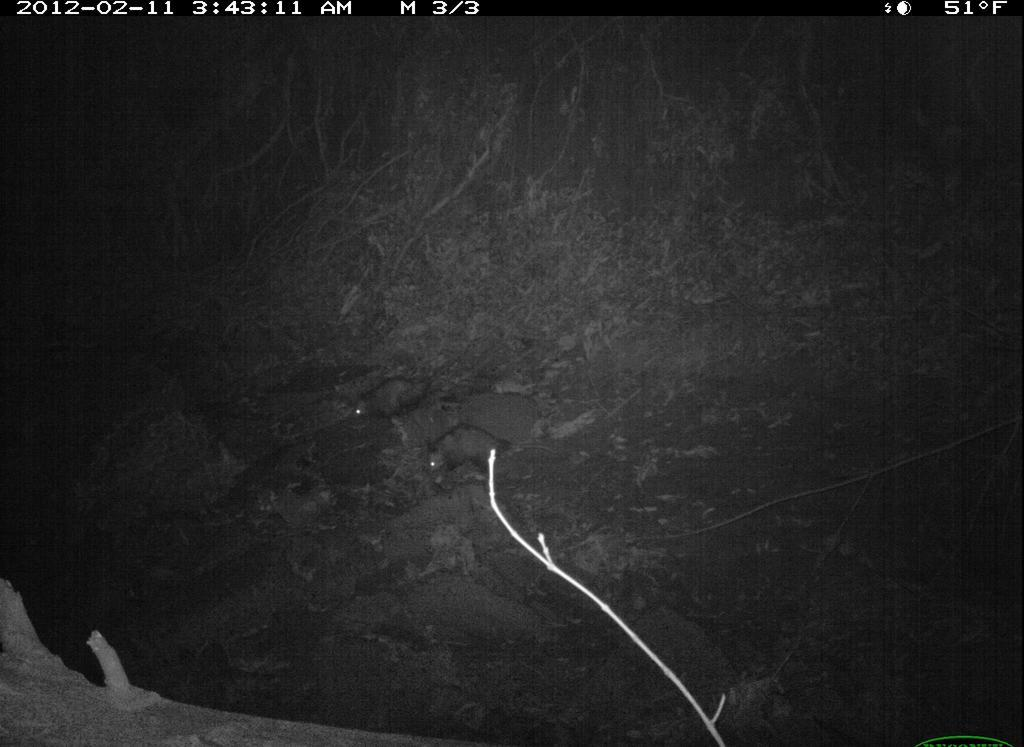opossum: (417, 425, 556, 491), (346, 364, 456, 436)
